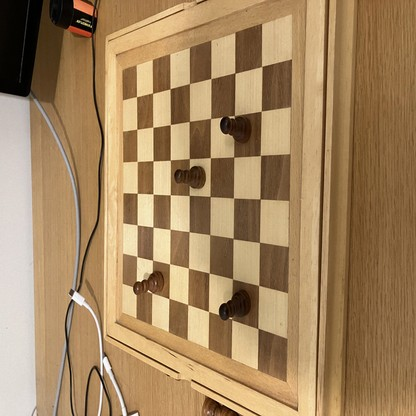pawn_black: (220, 289, 251, 320), (220, 117, 252, 144), (132, 271, 165, 295), (174, 168, 207, 189)
